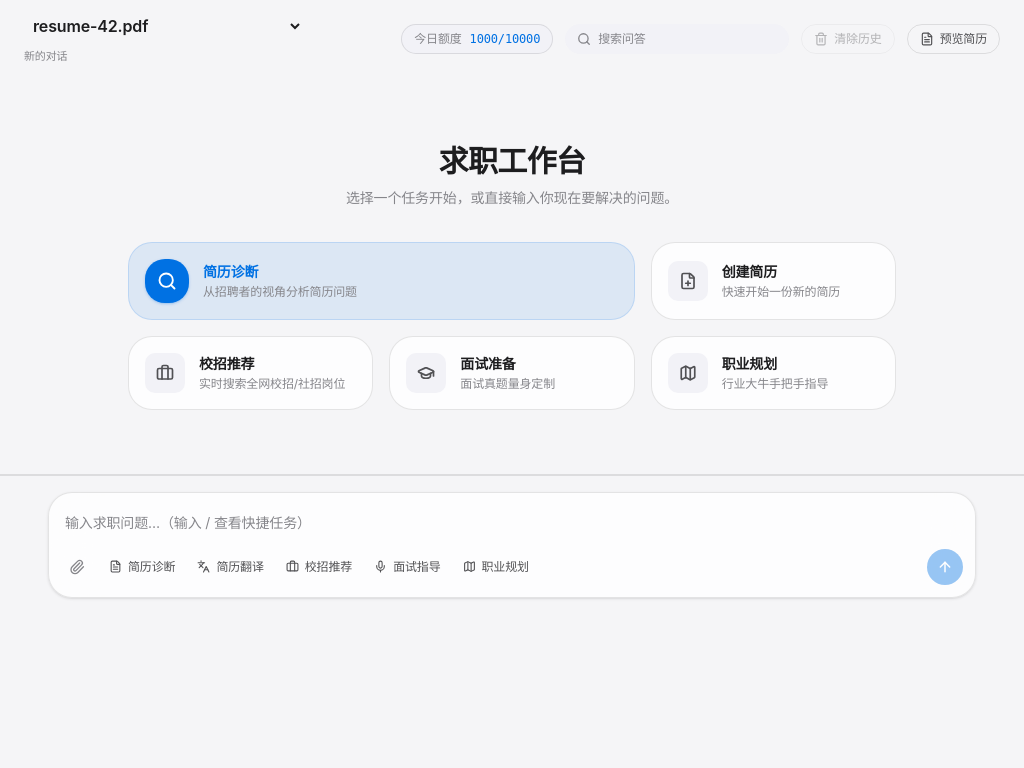
Test: QAPage 搜索防抖 (Task 4) › 搜索结果为空时显示没有匹配的问答
The width and height of the screenshot is (1024, 768).
Type "NotExist" into the field with placeholder "搜索问答" at (677, 39), box x1=565 y1=24 x2=789 y2=54
Wait 300 ms
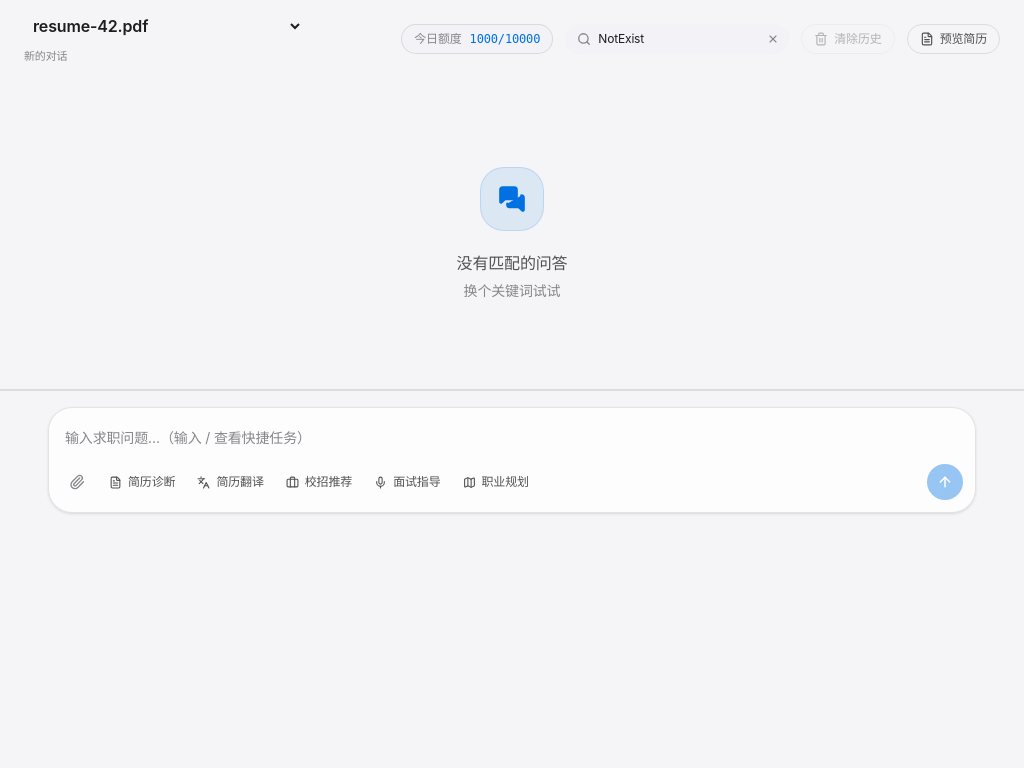
Check: the text "没有匹配的问答" is shown, box x1=456 y1=251 x2=567 y2=275
